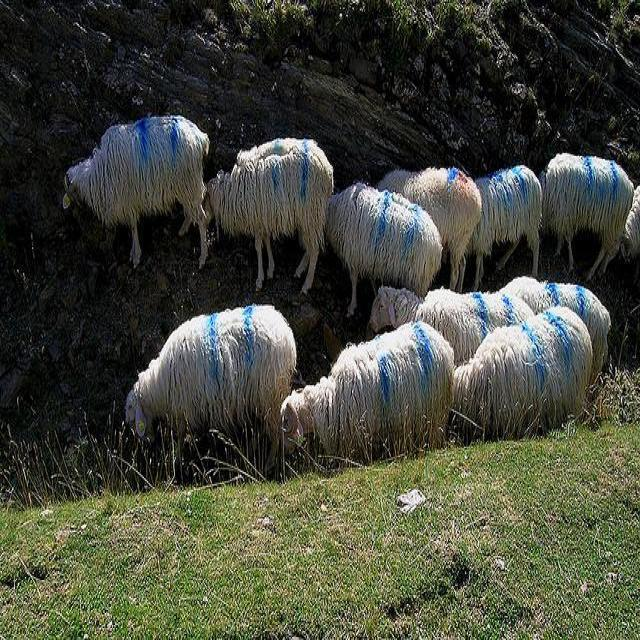Sheep: (125, 292, 302, 486), (280, 321, 455, 474), (63, 118, 210, 272), (198, 136, 331, 298), (450, 306, 594, 444), (327, 180, 443, 318), (369, 289, 537, 367), (381, 168, 483, 291), (501, 276, 611, 388), (544, 160, 634, 280), (468, 165, 544, 295)
